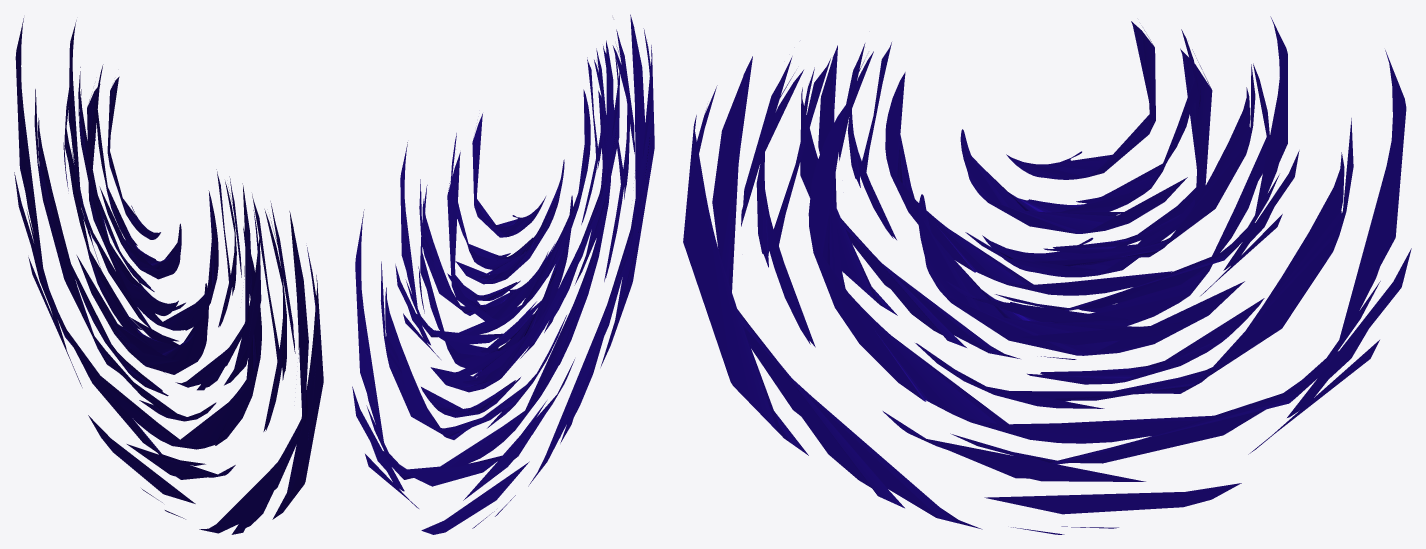
File: Heaven-Piercer_-z_.glb
3 renders of one model, left to right at view 1: azimuth 30°, elevation 25°; view 2: azimuth 150°, elevation 25°; view 3: azimuth 270°, elevation 25°, orthographic. The views are drawn at different scales.
Parts seen in each view (by area): view 1: 円; view 2: 円; view 3: 円.
Part boxes in pixels (left/top/right/bottom): 円: left=14, top=18, right=323, bottom=534; 円: left=352, top=14, right=654, bottom=534; 円: left=683, top=16, right=1411, bottom=534.
Bounding box in the file's own units: 0.8026 × 10.94 × 13.91.
